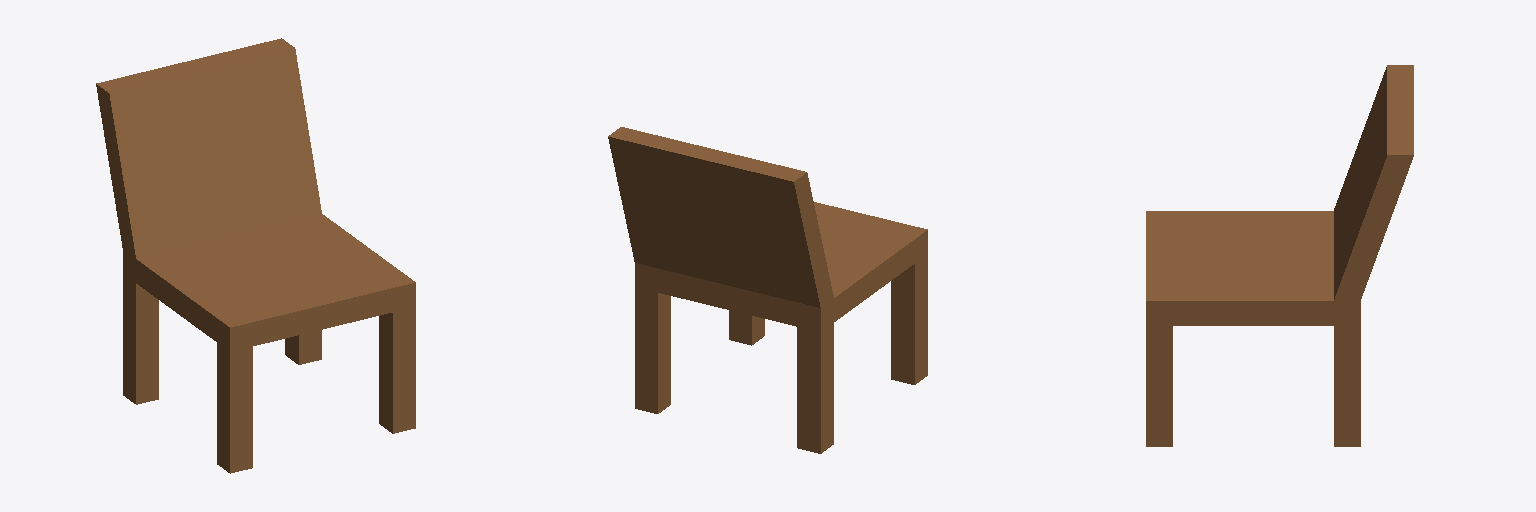
Rendered from chair.obj.
3 renders of one model, left to right at view 1: azimuth 30°, elevation 25°; view 2: azimuth 150°, elevation 25°; view 3: azimuth 270°, elevation 25°, orthographic.
Parts seen in each view (by area): view 1: chair_mesh_Cube; view 2: chair_mesh_Cube; view 3: chair_mesh_Cube.
Boxes of the visible parts, x1=… form: chair_mesh_Cube: x1=96, y1=38, x2=415, y2=473; chair_mesh_Cube: x1=608, y1=127, x2=927, y2=453; chair_mesh_Cube: x1=1146, y1=65, x2=1413, y2=446.
Bounding box in the file's own units: 0.6 × 0.9 × 0.75.